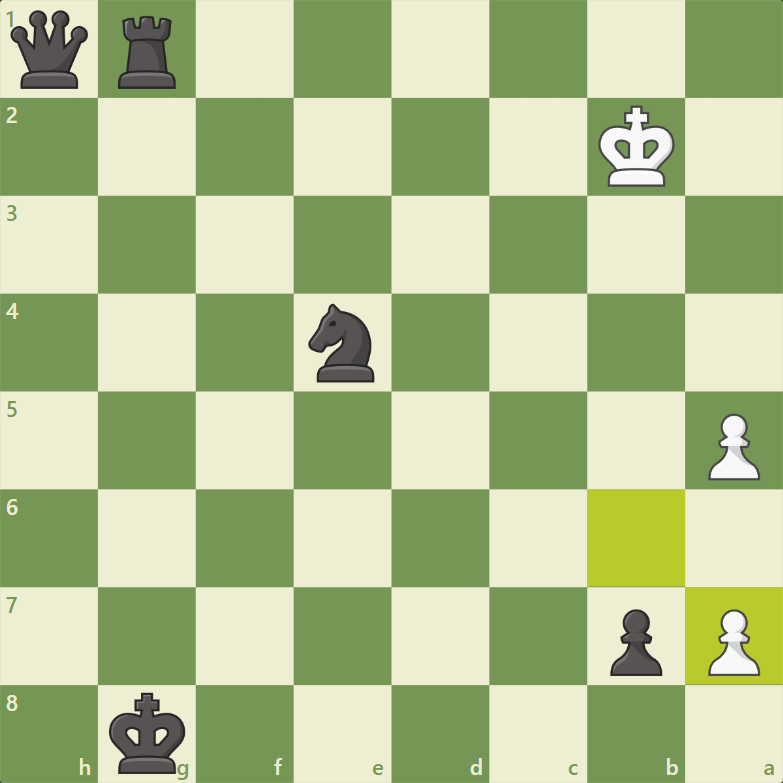K: (596, 103, 676, 192)
P: (705, 411, 763, 485), (705, 607, 763, 679)
k: (108, 691, 189, 778)
n: (307, 301, 377, 386)
p: (609, 607, 666, 680)
q: (7, 8, 90, 92)
r: (116, 12, 178, 93)
